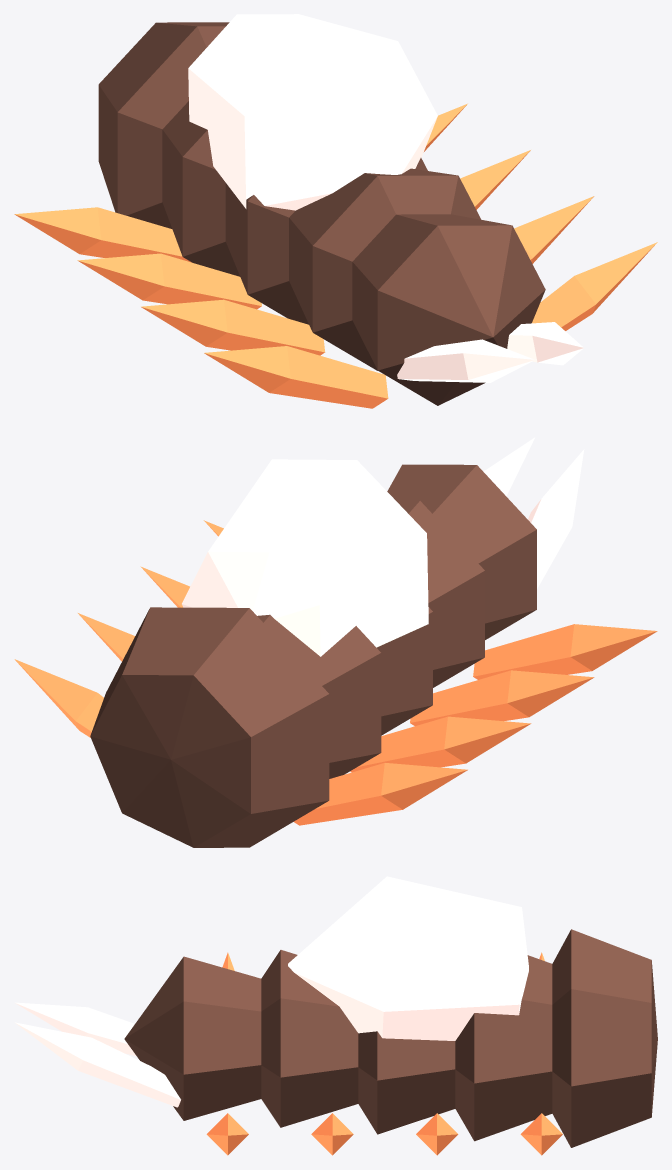
The model's file is deep-fracture-creature-CrystalParasite-fire.glb.
3 views of the same model, one above another, from view 1: azimuth 30°, elevation 25°; view 2: azimuth 150°, elevation 25°; view 3: azimuth 270°, elevation 25° (orthographic). The views are drawn at different scales.
Parts seen in each view (by area): view 1: regrowth-core, body4, body3, body0, body1, hook-l3, body2, hook-l2, hook-l1, hook-l0, feeding-spike-left, hook-r3 (+3 smaller); view 2: body0, regrowth-core, body4, body1, body3, hook-l3, hook-l2, hook-l0, hook-l1, body2, feeding-spike-left, hook-r0 (+3 smaller); view 3: regrowth-core, body0, body4, body3, body1, body2, feeding-spike-right, feeding-spike-left, hook-r0, hook-r1, hook-r3, hook-r2.
Boxes of the visible parts, <box> form: regrowth-core: <box>188,14,437,210</box>; body4: <box>352,214,545,405</box>; body3: <box>289,168,480,370</box>; body0: <box>98,22,229,228</box>; body1: <box>162,101,239,276</box>; hook-l3: <box>204,346,388,408</box>; body2: <box>225,158,427,324</box>; hook-l2: <box>141,299,325,355</box>; hook-l1: <box>77,253,261,309</box>; hook-l0: <box>14,207,191,262</box>; feeding-spike-left: <box>397,339,534,382</box>; hook-r3: <box>532,242,657,330</box>; body0: <box>90,607,329,847</box>; regrowth-core: <box>182,459,428,656</box>; body4: <box>387,464,536,639</box>; body1: <box>257,614,381,778</box>; body3: <box>396,500,484,687</box>; hook-l3: <box>473,624,657,679</box>; hook-l2: <box>410,670,594,725</box>; hook-l0: <box>293,763,467,825</box>; hook-l1: <box>350,716,531,772</box>; body2: <box>377,607,432,735</box>; feeding-spike-left: <box>528,449,584,588</box>; hook-r0: <box>14,659,103,737</box>; regrowth-core: <box>288,876,528,1040</box>; body0: <box>552,929,657,1147</box>; body4: <box>124,956,261,1120</box>; body3: <box>261,950,358,1127</box>; body1: <box>455,955,552,1141</box>; body2: <box>358,1031,455,1134</box>; feeding-spike-right: <box>14,1022,180,1107</box>; feeding-spike-left: <box>14,1002,136,1056</box>; hook-r0: <box>520,1113,562,1155</box>; hook-r1: <box>416,1113,458,1155</box>; hook-r3: <box>206,1113,248,1155</box>; hook-r2: <box>311,1113,353,1155</box>.
Bounding box in the file's own units: 1.12 × 0.7201 × 1.66.
